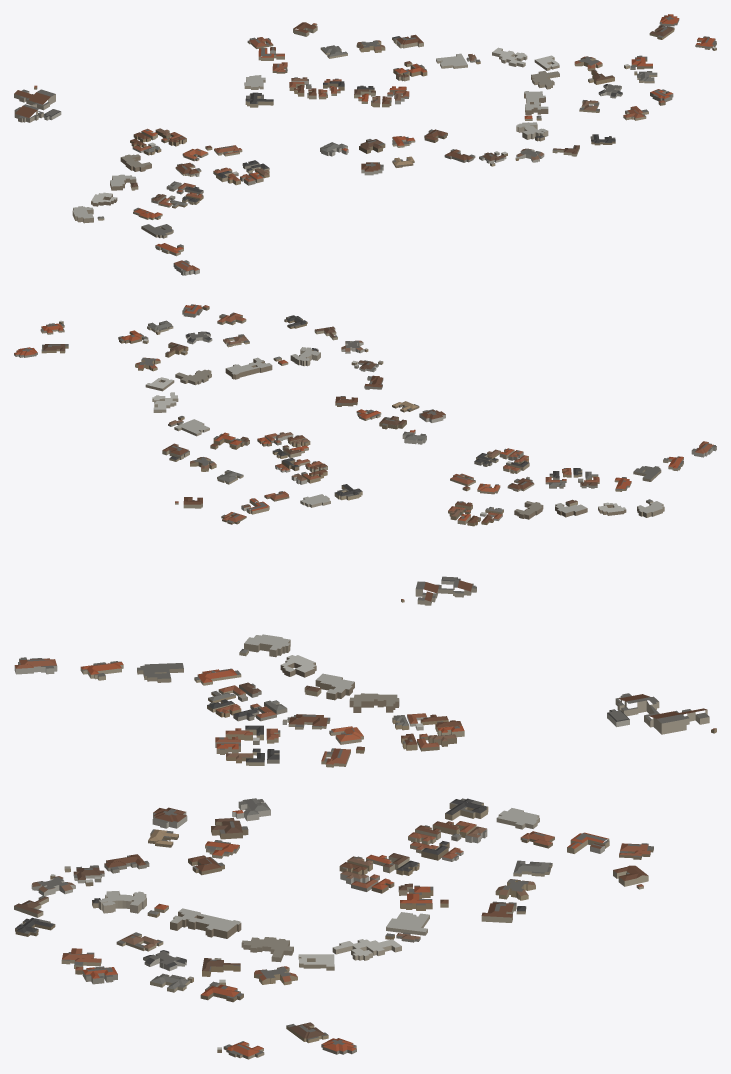
3 views of the same model, one above another, from view 1: azimuth 30°, elevation 25°; view 2: azimuth 150°, elevation 25°; view 3: azimuth 270°, elevation 25° (orthographic). The views are drawn at different scales.
Parts seen in each view (by area): view 1: buildings_r7_c2_lod1; view 2: buildings_r7_c2_lod1; view 3: buildings_r7_c2_lod1.
Boxes of the visible parts, x1,y1,x2,y2 form: buildings_r7_c2_lod1: [14, 14, 716, 275]; buildings_r7_c2_lod1: [14, 304, 716, 605]; buildings_r7_c2_lod1: [14, 634, 716, 1059].
Size of the model in its own units: 1132 by 76.36 by 729.
